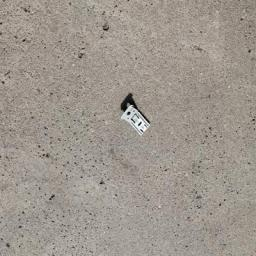FOD: (116, 91, 155, 139)
